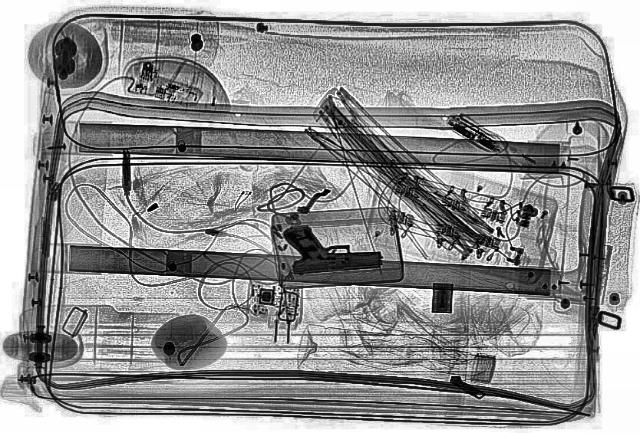Gun: (280, 220, 386, 274)
